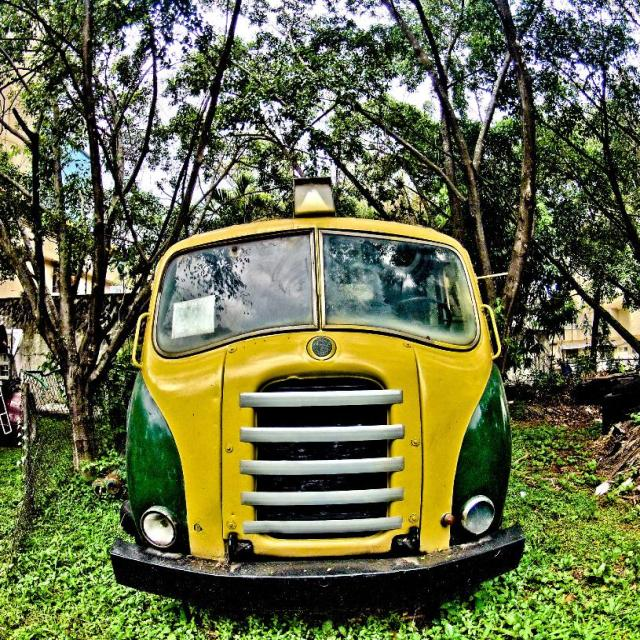car: (97, 198, 498, 610)
